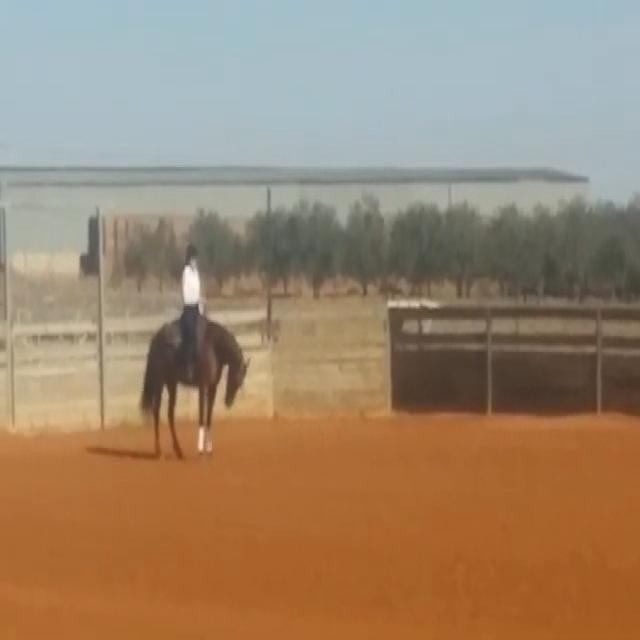horse: (138, 309, 249, 459)
